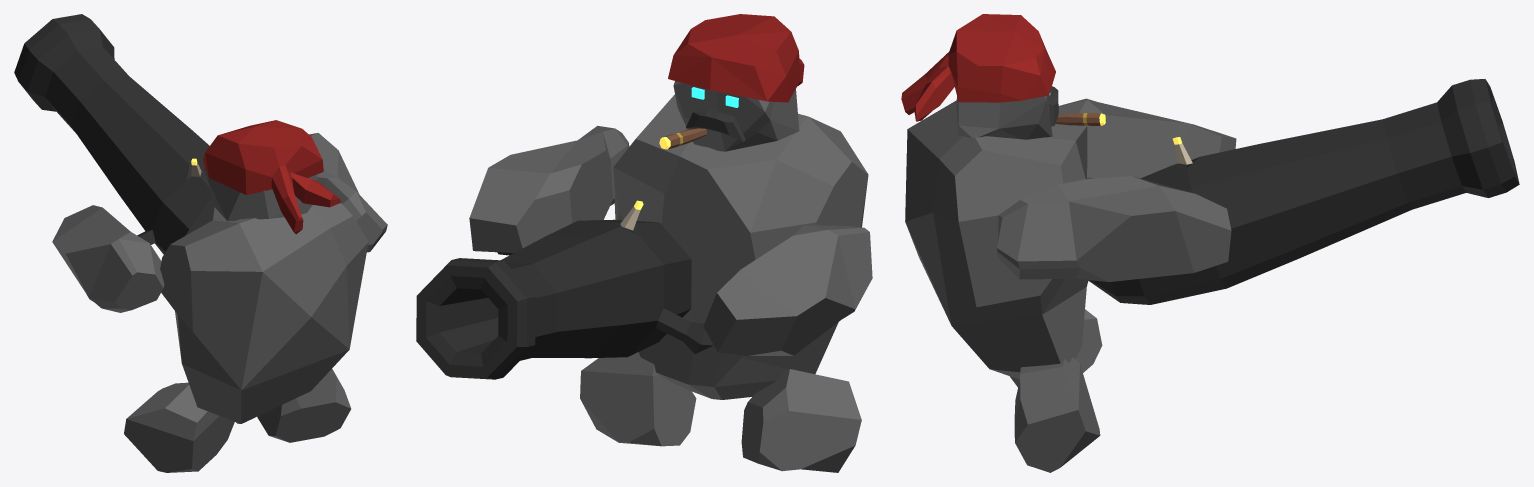
File: golemCannon.fbx
3 views of the same model, side by side, from view 1: azimuth 30°, elevation 25°; view 2: azimuth 150°, elevation 25°; view 3: azimuth 270°, elevation 25° (orthographic). The views are drawn at different scales.
Visible parts, largest first — view 1: Cube.003; view 2: Cube.003; view 3: Cube.003.
Part boxes in pixels (box(x1,y1,x2,y2)): Cube.003: box(14, 14, 387, 472); Cube.003: box(416, 14, 872, 472); Cube.003: box(901, 14, 1519, 472).
Size of the model in its own units: 478 by 576 by 824.
